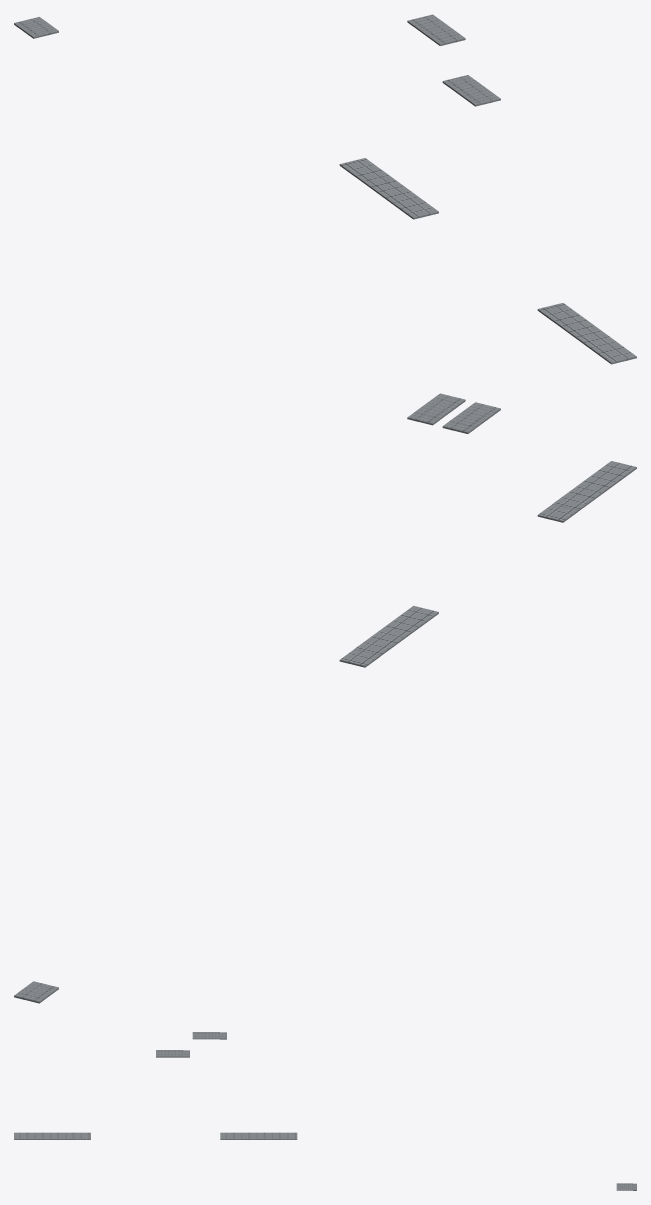
Rendered from Stage3_penetrate.fbx.
3 views of the same model, one above another, from view 1: azimuth 30°, elevation 25°; view 2: azimuth 150°, elevation 25°; view 3: azimuth 270°, elevation 25° (orthographic). The views are drawn at different scales.
Parts seen in each view (by area): view 1: floor_def166, floor_def165, floor_def167, floor_def168, floor_def169; view 2: floor_def165, floor_def166, floor_def167, floor_def168; view 3: floor_def166, floor_def165, floor_def167, floor_def168.
Boxes of the visible parts, x1,y1,x2,y2 form: floor_def166: [339, 158, 438, 219]; floor_def165: [537, 303, 636, 364]; floor_def167: [407, 14, 465, 45]; floor_def168: [442, 75, 500, 106]; floor_def169: [14, 17, 58, 38]; floor_def165: [537, 461, 636, 522]; floor_def166: [339, 605, 438, 667]; floor_def167: [407, 393, 465, 425]; floor_def168: [442, 402, 500, 433]; floor_def166: [220, 1132, 297, 1139]; floor_def165: [14, 1132, 90, 1139]; floor_def167: [192, 1032, 226, 1039]; floor_def168: [156, 1050, 189, 1057].
Bounding box in the file's own units: 140 × 1533 × 5684.
Materials: 1 (1 with a texture image).
